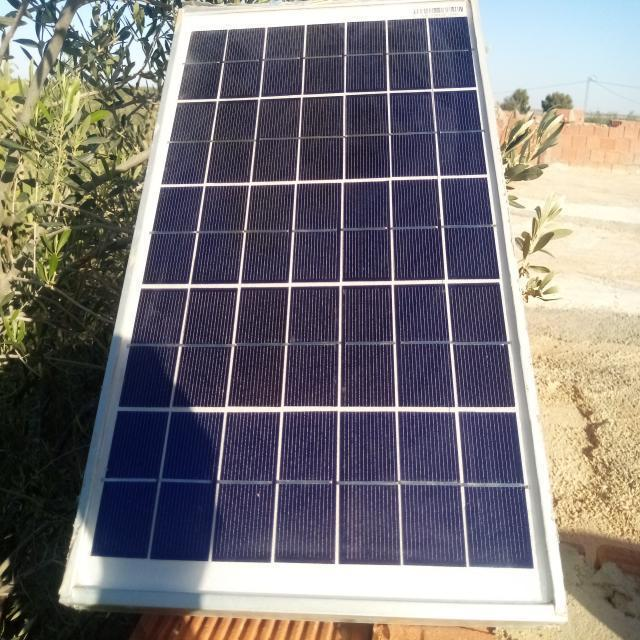Normal Solar Panel: (65, 0, 566, 617)
